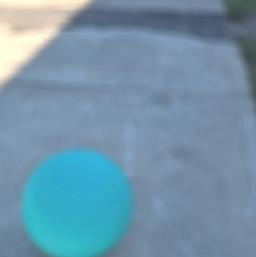algae: (25, 146, 133, 257)
